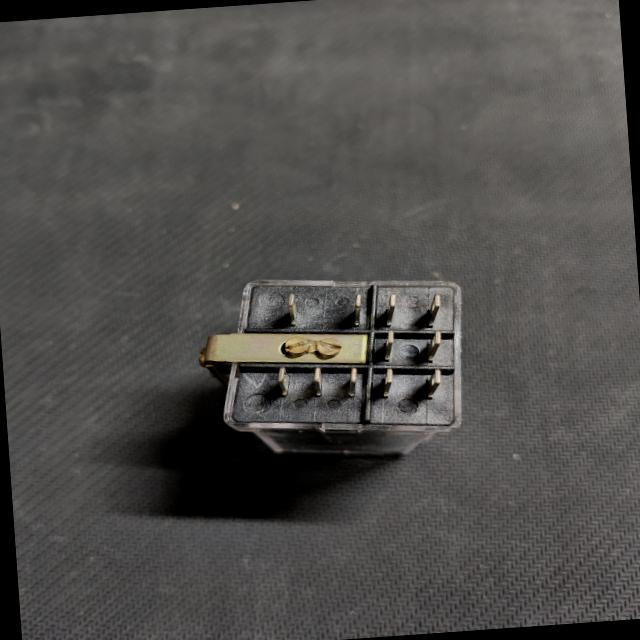relay: (186, 254, 487, 492)
